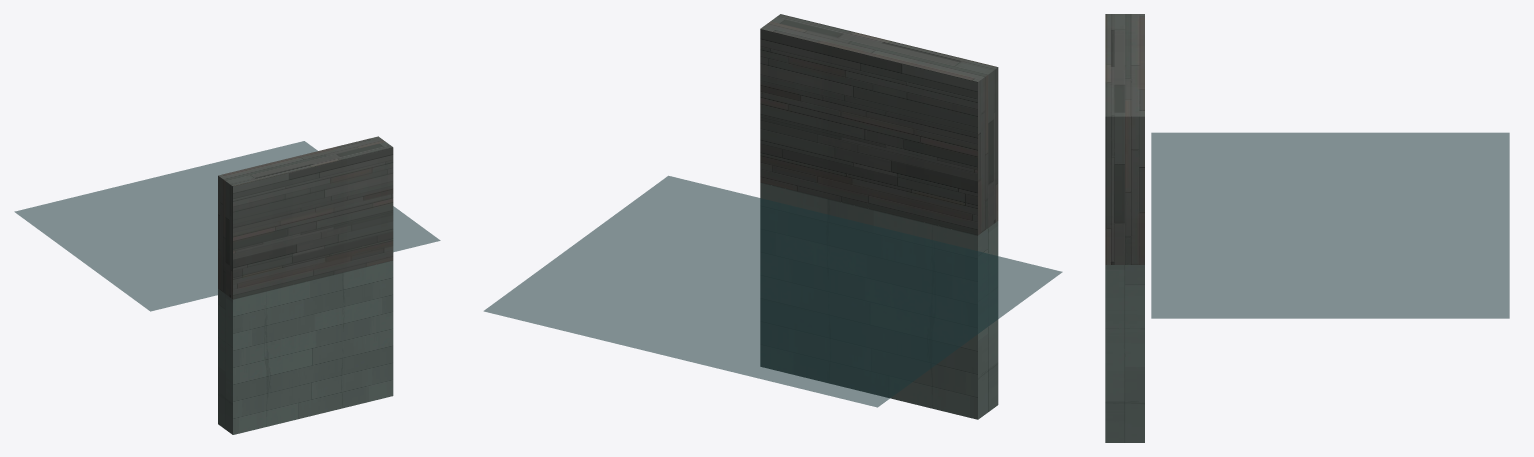
File: ph_plunge.gltf
3 renders of one model, left to right at view 1: azimuth 30°, elevation 25°; view 2: azimuth 150°, elevation 25°; view 3: azimuth 270°, elevation 25°, orthographic. The views are drawn at different scales.
Visible parts, largest first — view 1: PHPlunge_Slab_Lower, PHPlunge_Slab_Upper, PHPlunge_NoCollide_WaterBox; view 2: PHPlunge_NoCollide_WaterBox, PHPlunge_Slab_Lower, PHPlunge_Slab_Upper; view 3: PHPlunge_NoCollide_WaterBox, PHPlunge_Slab_Upper, PHPlunge_Slab_Lower.
Boxes of the visible parts, <box> form: PHPlunge_Slab_Lower: <box>218,260,393,434</box>; PHPlunge_Slab_Upper: <box>218,136,393,299</box>; PHPlunge_NoCollide_WaterBox: <box>14,141,440,311</box>; PHPlunge_NoCollide_WaterBox: <box>484,176,1062,407</box>; PHPlunge_Slab_Lower: <box>760,182,998,419</box>; PHPlunge_Slab_Upper: <box>760,14,998,235</box>; PHPlunge_NoCollide_WaterBox: <box>1151,132,1509,318</box>; PHPlunge_Slab_Upper: <box>1105,14,1144,264</box>; PHPlunge_Slab_Lower: <box>1105,265,1144,442</box>.
Bounding box in the file's own units: 2.8 × 2.2 × 2.52.
Materials: 4 (2 with a texture image).
